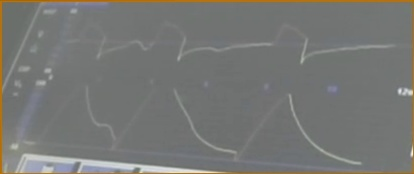Ineffective_effort Flow: (67, 16, 398, 68)
Ineffective_effort Volume: (26, 84, 361, 165)
